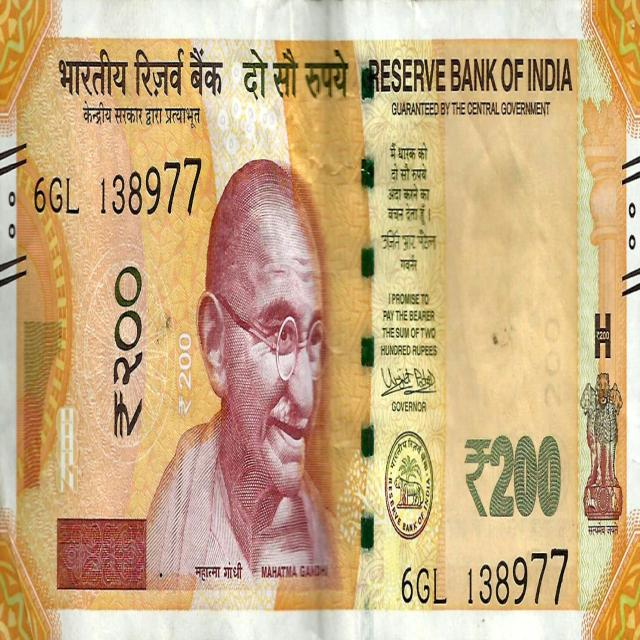200IndianRupees: (0, 0, 640, 640), (238, 0, 640, 637), (0, 0, 358, 640)
